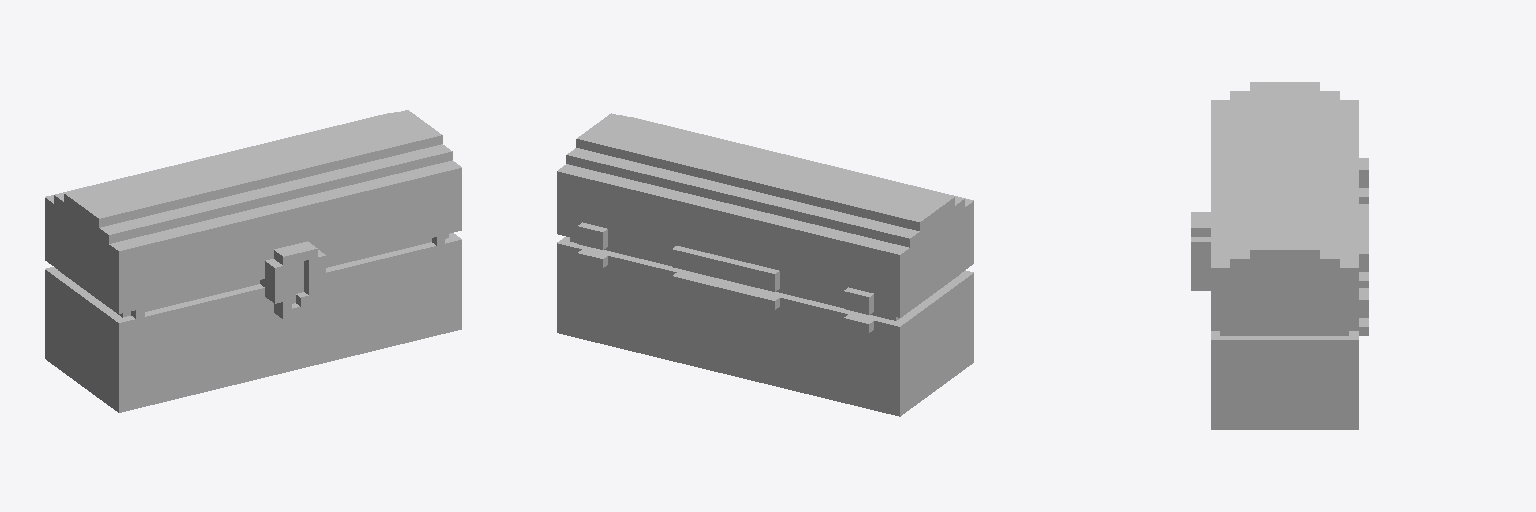
The model's file is LargeChest_02.obj.
The picture shows the model from 3 angles: view 1: azimuth 30°, elevation 25°; view 2: azimuth 150°, elevation 25°; view 3: azimuth 270°, elevation 25°; orthographic projection.
Parts seen in each view (by area): view 1: LargeChest_02.002; view 2: LargeChest_02.002; view 3: LargeChest_02.002.
Part boxes in pixels (x1,y1,x2,y2): LargeChest_02.002: (45,110,461,412); LargeChest_02.002: (557,113,973,416); LargeChest_02.002: (1191,82,1368,429).
Bounding box in the file's own units: 4 × 2 × 1.8.